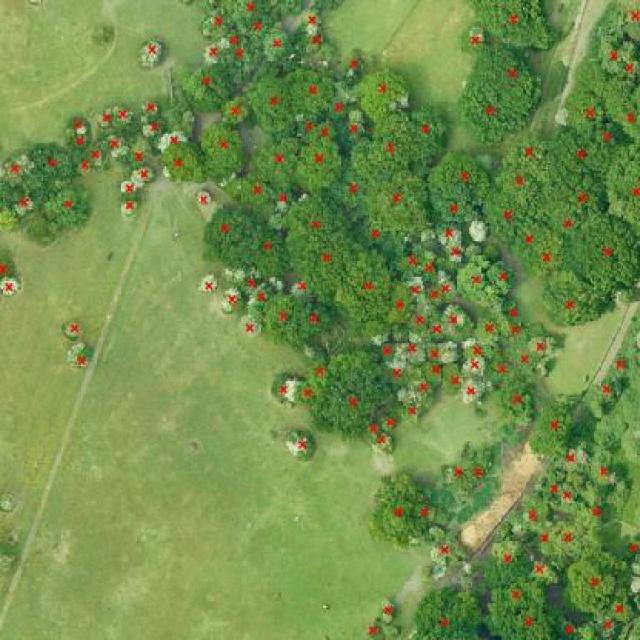tree: (361, 470, 450, 550), (315, 349, 390, 440), (461, 42, 554, 96), (455, 86, 536, 146), (349, 111, 413, 184), (471, 0, 566, 49), (562, 550, 628, 619), (581, 214, 640, 291), (368, 170, 435, 236), (278, 194, 350, 255), (409, 583, 486, 640), (535, 270, 608, 328), (339, 250, 393, 319), (429, 150, 492, 207), (197, 209, 258, 266), (249, 72, 300, 137), (355, 63, 414, 119), (198, 121, 250, 181), (481, 536, 535, 592), (260, 292, 312, 350), (528, 400, 575, 460), (293, 138, 344, 193), (254, 136, 303, 193), (244, 224, 293, 281), (406, 106, 449, 169), (183, 67, 239, 115), (491, 376, 540, 429), (548, 516, 604, 562), (42, 182, 95, 229), (487, 577, 548, 617), (160, 141, 209, 187), (291, 69, 337, 117), (503, 129, 554, 172), (222, 172, 276, 211), (426, 526, 472, 571), (526, 229, 569, 277), (486, 609, 552, 640), (486, 192, 528, 240), (29, 142, 80, 180), (295, 298, 340, 341), (566, 91, 609, 134), (329, 165, 371, 209), (557, 136, 603, 175), (498, 169, 545, 206), (607, 161, 640, 213), (587, 118, 627, 160), (587, 377, 627, 418), (565, 176, 606, 215), (437, 456, 478, 495), (593, 35, 630, 77), (302, 345, 336, 390), (393, 241, 432, 279), (260, 27, 297, 67), (547, 203, 587, 240), (611, 91, 640, 142), (604, 0, 640, 41), (269, 370, 303, 412), (198, 5, 236, 42), (553, 439, 592, 475), (517, 491, 552, 531), (396, 376, 438, 409), (456, 260, 489, 302), (385, 284, 416, 327), (376, 359, 419, 390), (576, 487, 607, 530), (311, 243, 348, 279), (355, 217, 393, 252), (512, 217, 546, 255), (293, 378, 329, 413), (168, 99, 199, 139), (284, 428, 319, 463), (303, 31, 339, 65), (486, 260, 519, 297), (418, 339, 461, 367), (0, 151, 34, 186), (434, 267, 461, 310), (456, 376, 490, 410), (405, 302, 437, 338), (589, 450, 620, 487), (234, 0, 274, 28), (530, 524, 562, 559), (222, 37, 256, 69), (460, 335, 498, 363), (98, 130, 131, 162), (340, 45, 371, 79), (532, 472, 566, 503), (576, 615, 618, 640), (456, 24, 492, 53), (607, 592, 640, 623), (440, 303, 475, 332), (436, 196, 476, 221), (157, 128, 194, 155), (303, 119, 340, 146), (441, 363, 468, 400), (221, 96, 253, 127), (361, 318, 393, 349), (487, 358, 518, 390), (137, 36, 166, 70), (125, 136, 154, 170), (530, 558, 564, 587), (339, 115, 370, 146), (434, 219, 465, 250), (510, 346, 541, 377), (471, 317, 505, 345), (395, 339, 427, 368), (64, 343, 96, 371), (605, 478, 632, 511), (425, 316, 459, 342), (527, 334, 561, 360), (463, 456, 489, 490), (397, 400, 428, 428), (235, 269, 266, 296), (400, 276, 428, 305), (419, 251, 443, 284), (289, 275, 317, 303), (11, 192, 40, 219), (110, 99, 135, 130), (237, 311, 265, 338), (247, 284, 275, 311), (220, 286, 246, 315), (369, 429, 396, 456), (555, 482, 578, 513), (554, 612, 580, 639), (325, 96, 352, 122), (297, 113, 321, 142), (378, 410, 405, 435), (131, 164, 160, 187), (273, 185, 296, 214), (502, 320, 527, 346), (85, 142, 109, 169), (139, 117, 167, 140), (422, 359, 445, 387), (377, 597, 400, 625), (466, 219, 492, 243), (118, 177, 145, 200), (462, 356, 489, 379), (95, 102, 117, 130), (302, 6, 326, 31), (65, 113, 91, 136), (0, 207, 23, 233), (415, 500, 438, 526), (0, 276, 25, 299), (422, 284, 447, 307), (75, 152, 96, 179), (620, 535, 640, 563), (223, 27, 246, 51), (365, 615, 387, 640), (201, 44, 227, 65), (445, 240, 466, 266), (279, 0, 306, 20), (62, 317, 85, 340), (493, 521, 516, 544), (0, 253, 17, 284), (0, 489, 20, 515), (610, 353, 632, 376), (377, 341, 398, 365), (615, 288, 640, 308), (0, 547, 17, 576), (92, 23, 113, 46), (198, 272, 219, 295), (118, 198, 142, 218), (620, 57, 640, 81), (363, 418, 385, 439), (483, 243, 503, 266), (464, 240, 484, 263), (554, 106, 574, 128), (195, 186, 214, 209), (503, 298, 523, 319), (140, 99, 160, 119), (475, 447, 494, 468), (71, 134, 92, 149), (387, 623, 404, 640), (185, 440, 201, 455), (462, 561, 476, 577), (422, 564, 435, 579)
